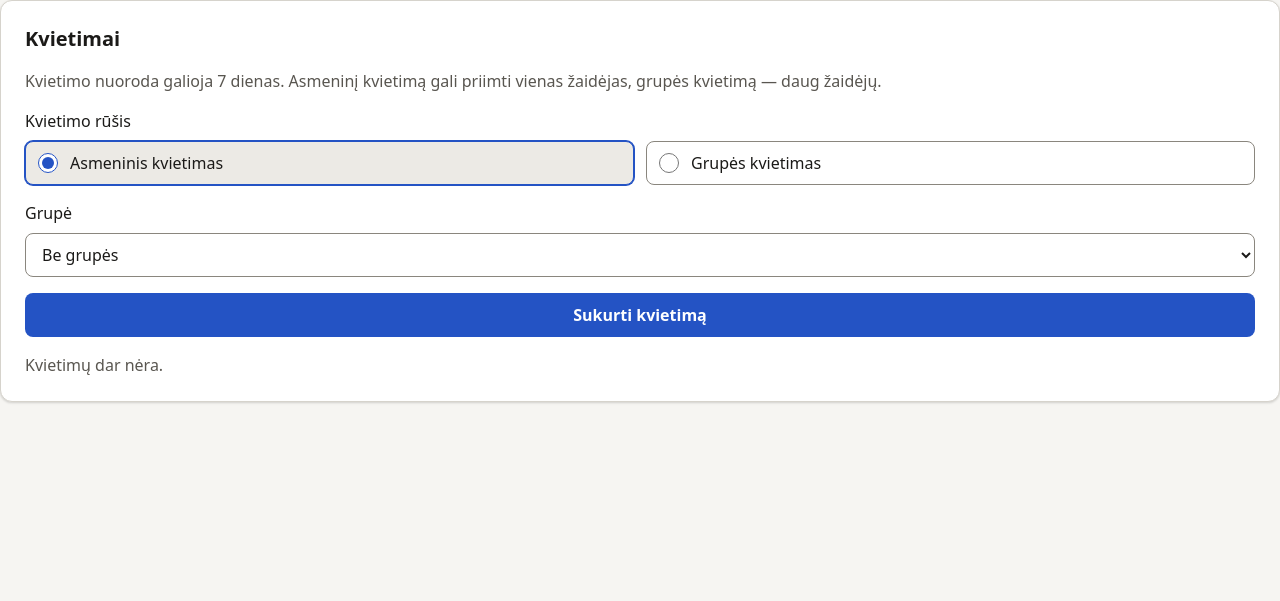
Scenario: InvitesSection: making an invite (R-98, R-110) › shows the new link once, ready to copy (plan decision 5)
The image size is (1280, 601).
Click the button "Sukurti kvietimą".
click(640, 315)  # box [25,293,1255,337]
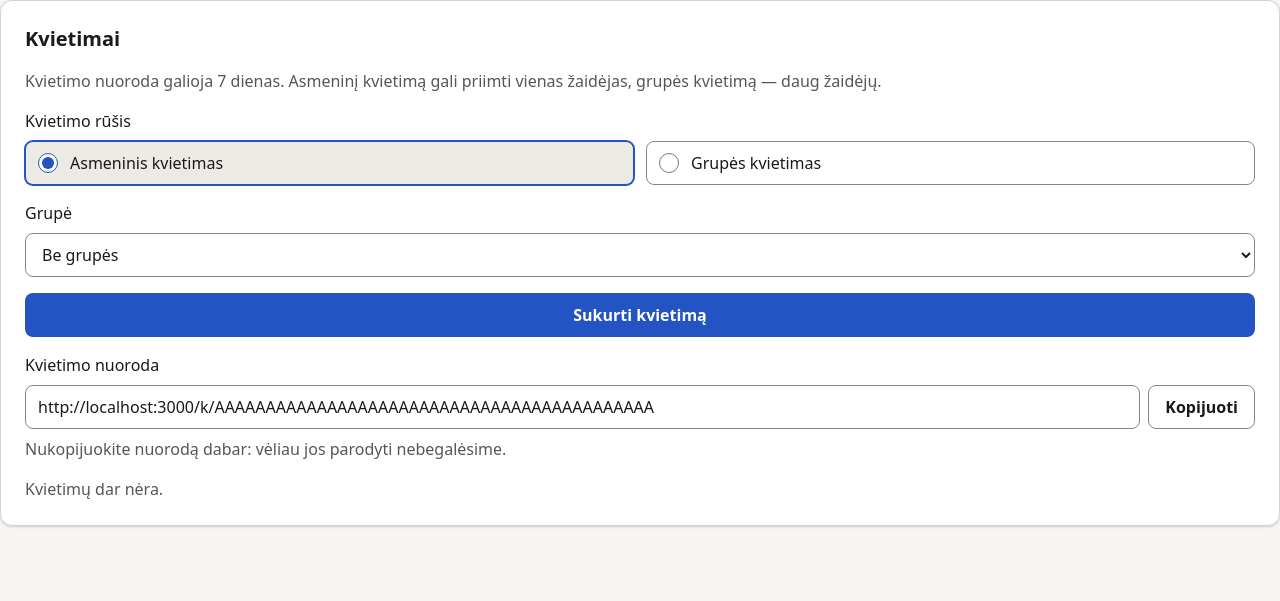
Result: the text "Nukopijuokite nuorodą dabar: vėliau jos parodyti nebegalėsime." is shown at [25,438,506,460]
Click the button "Kopijuoti".
click(1202, 407)  # box [1148,385,1255,429]
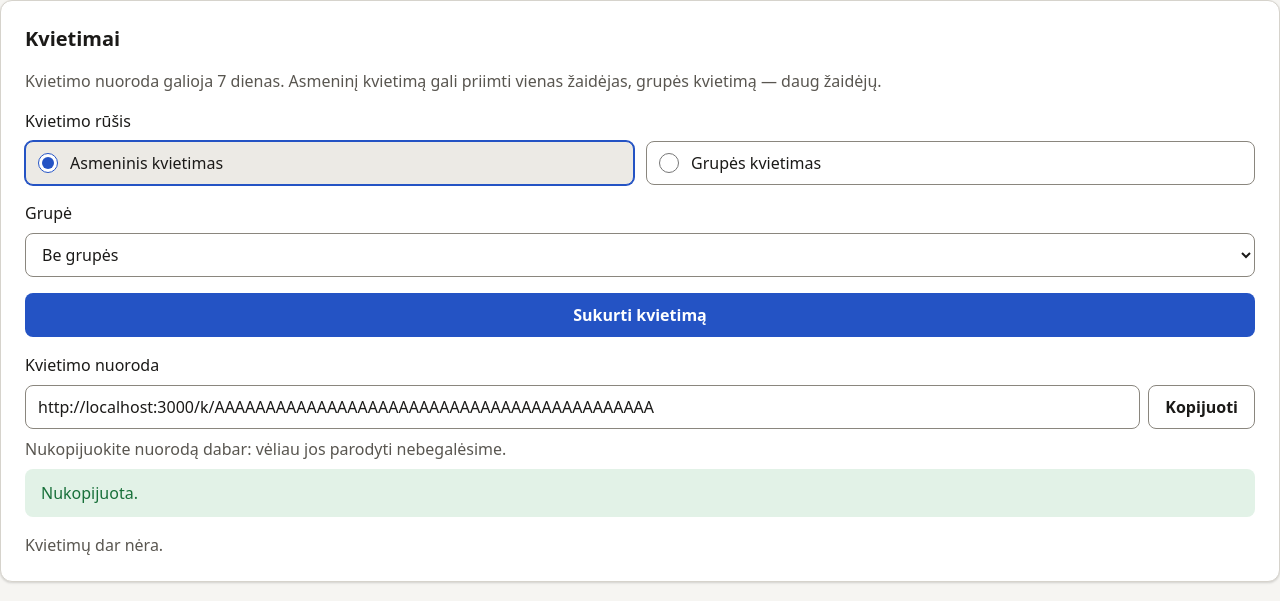
Result: the text "Nukopijuota." is shown at [25,469,1255,517]
